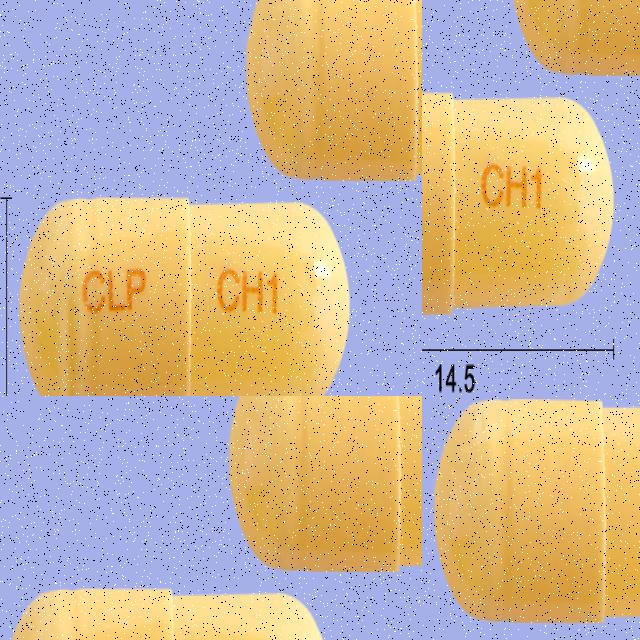Ceprion Cap: (431, 396, 640, 628)
Ciprofloxacin HCl Tab- Unimed: (422, 76, 633, 396)
Clarione -500mg: (47, 242, 362, 396)
Clribio: (271, 396, 422, 616), (1, 554, 289, 640)
